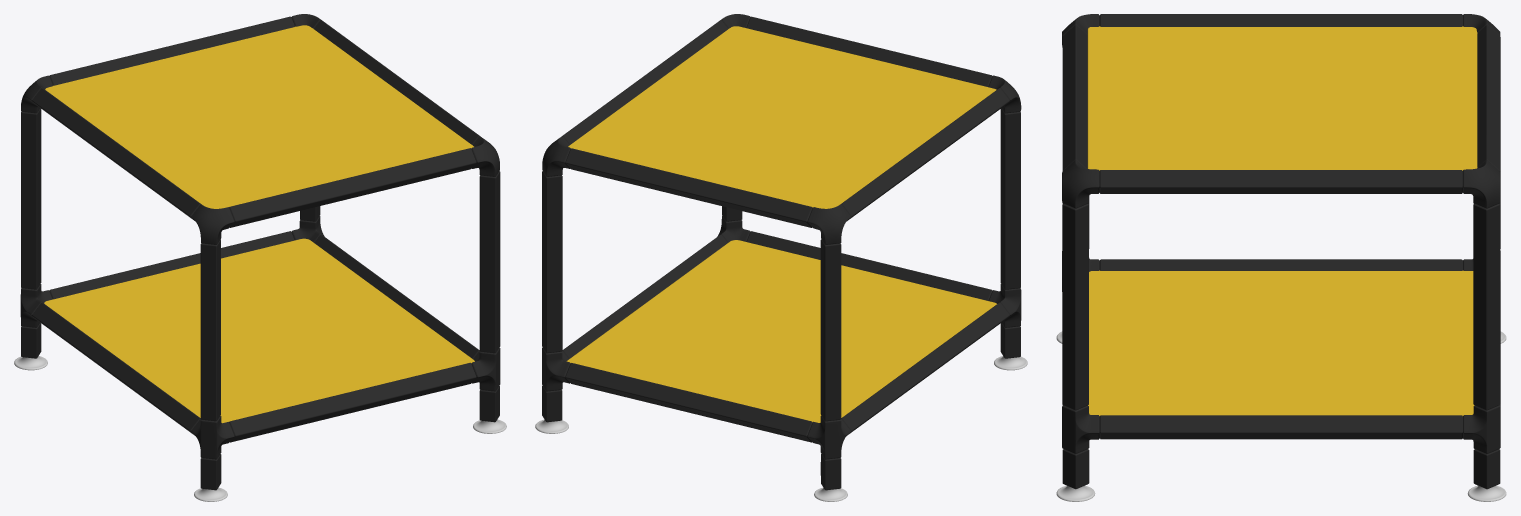
3 views of the same model, side by side, from view 1: azimuth 30°, elevation 25°; view 2: azimuth 150°, elevation 25°; view 3: azimuth 270°, elevation 25° (orthographic). The views are drawn at different scales.
Visible parts, largest first — view 1: 329x374x229; view 2: 329x374x229; view 3: 329x374x229.
Part boxes in pixels (x1,y1,x2,y2): 329x374x229: [14, 14, 506, 501]; 329x374x229: [535, 14, 1027, 501]; 329x374x229: [1056, 14, 1506, 501].
Size of the model in its own units: 0.4189 by 0.3683 by 0.4632.
